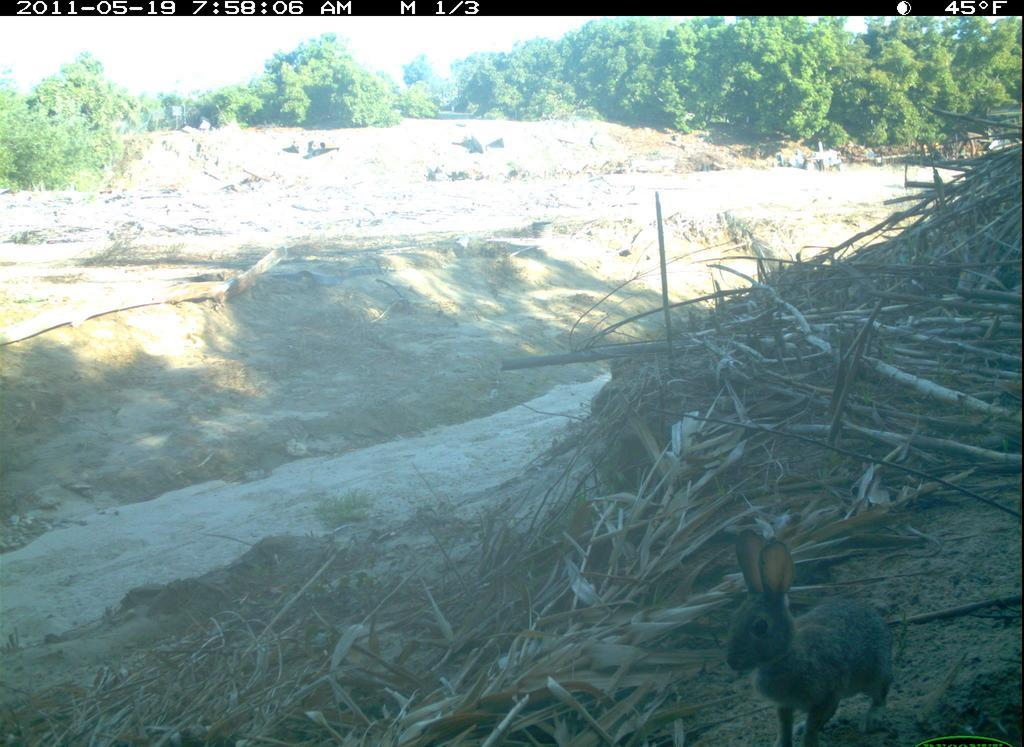rabbit: (710, 521, 907, 747)
